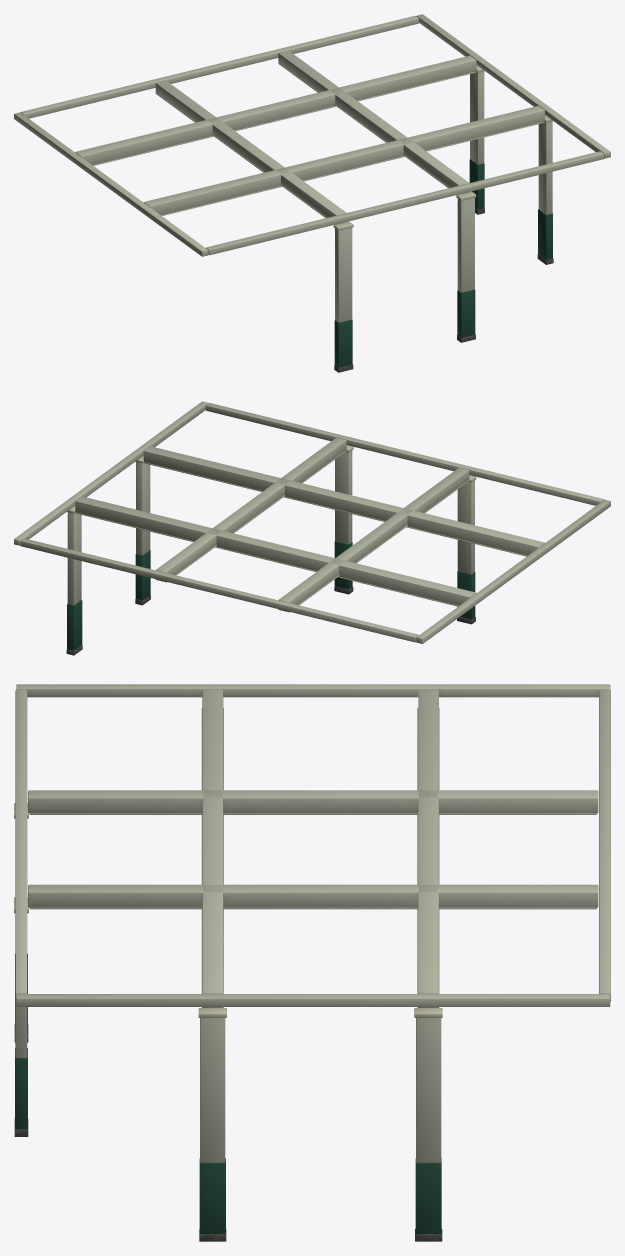
Rendered from CTCC_LOC02_CeilingBeams.fbx.
3 views of the same model, one above another, from view 1: azimuth 30°, elevation 25°; view 2: azimuth 150°, elevation 25°; view 3: azimuth 270°, elevation 25° (orthographic). The views are drawn at different scales.
Visible parts, largest first — view 1: CTCC_LOC02_CeilingBeams; view 2: CTCC_LOC02_CeilingBeams; view 3: CTCC_LOC02_CeilingBeams.
Boxes of the visible parts, bbox=[...] form: CTCC_LOC02_CeilingBeams: bbox=[14, 14, 610, 372]; CTCC_LOC02_CeilingBeams: bbox=[14, 401, 610, 655]; CTCC_LOC02_CeilingBeams: bbox=[14, 684, 610, 1241].
Bounding box in the file's own units: 10.02 × 3.6 × 8.02.
